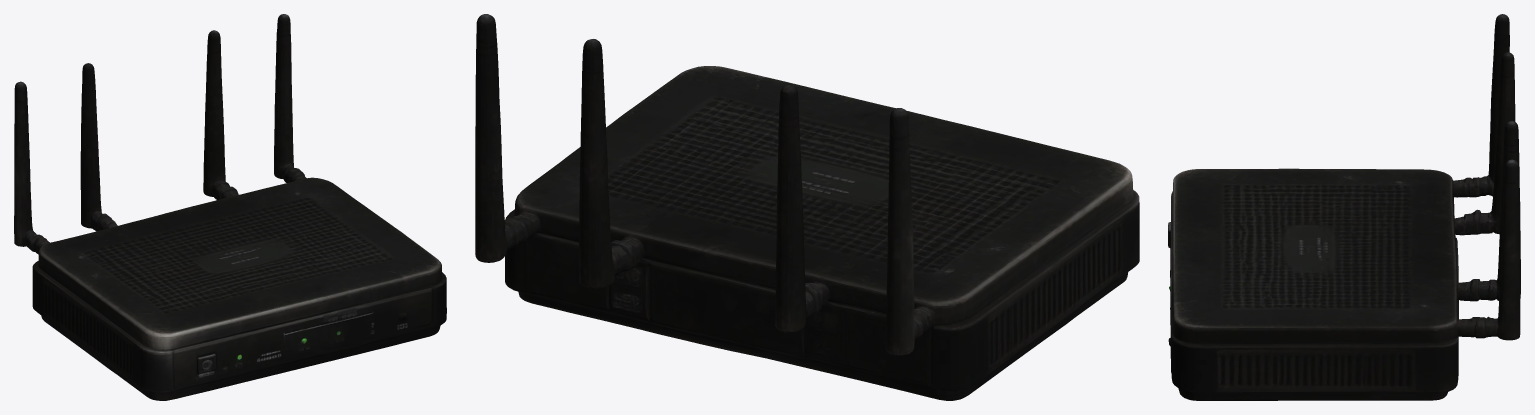
The model's file is router.glb.
3 renders of one model, left to right at view 1: azimuth 30°, elevation 25°; view 2: azimuth 150°, elevation 25°; view 3: azimuth 270°, elevation 25°, orthographic. The views are drawn at different scales.
Parts seen in each view (by area): view 1: geometry_0; view 2: geometry_0; view 3: geometry_0.
Part boxes in pixels (x1,y1,x2,y2): geometry_0: (14, 14, 446, 400); geometry_0: (475, 14, 1139, 400); geometry_0: (1168, 14, 1520, 400).
Size of the model in its own units: 0.996 by 0.6662 by 0.9019.
1 material, 1 textured.
